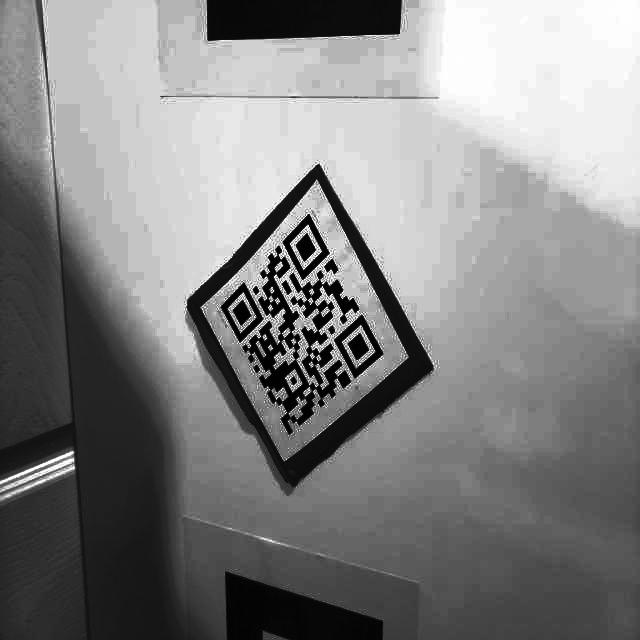qr_code: (210, 206, 389, 452)
